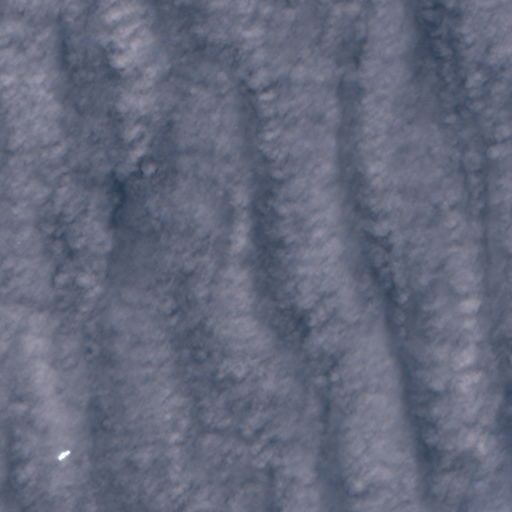Iceberg: (58, 450, 69, 460), (18, 242, 19, 243)
